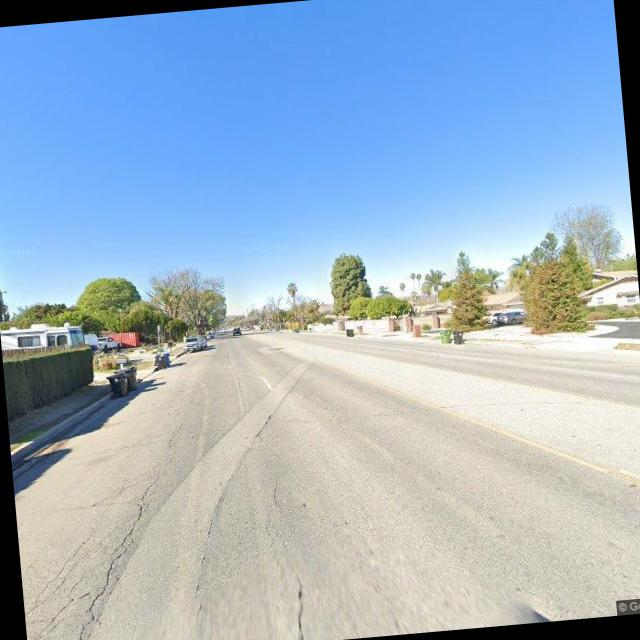crack: (10, 433, 194, 640)
pothole: (256, 475, 290, 548), (286, 566, 312, 640)
